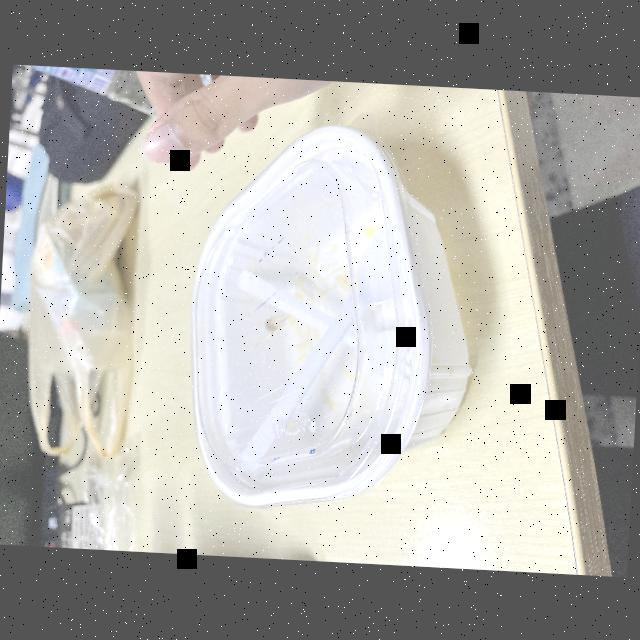plastic_box: (186, 121, 488, 515)
